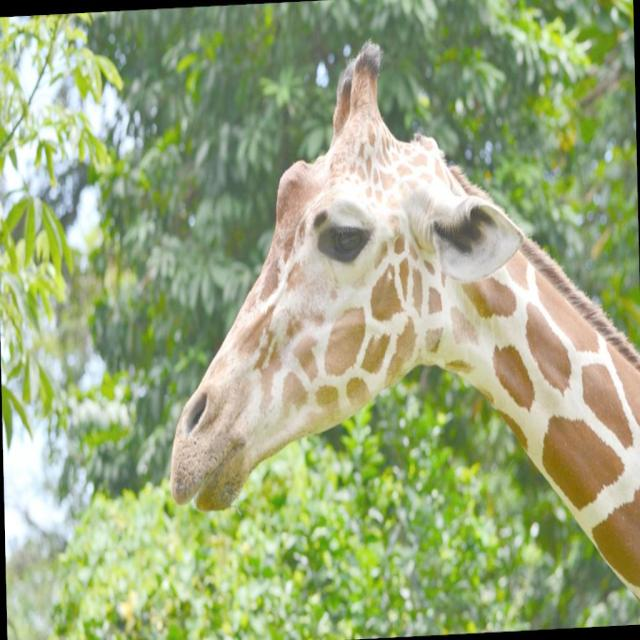Giraffe: (158, 18, 640, 608)
